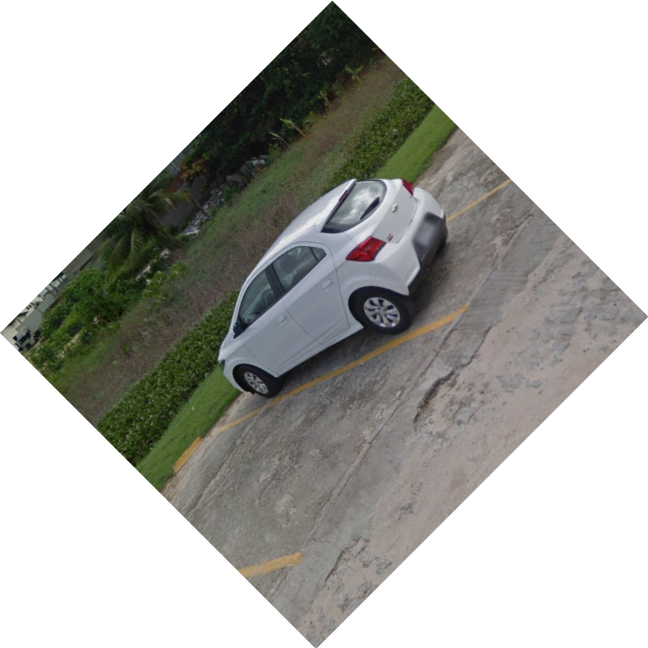car: (213, 173, 454, 405)
